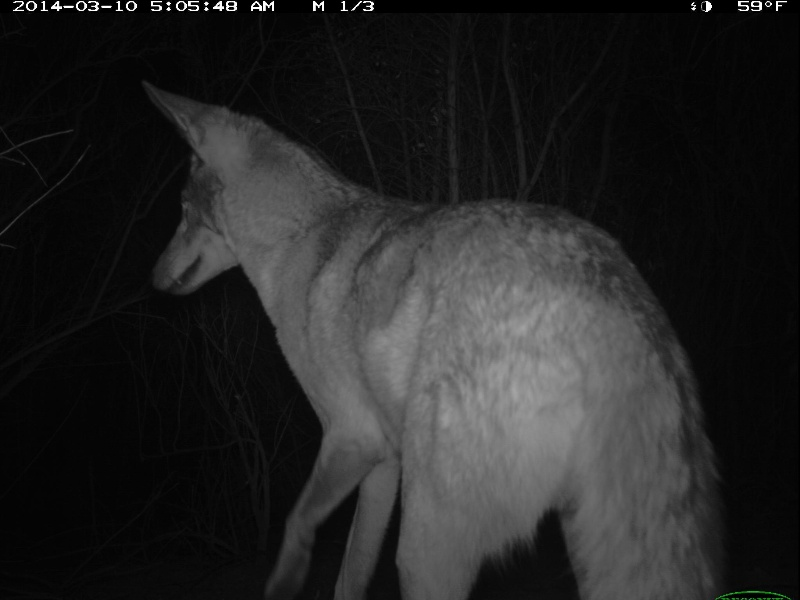coyote: (137, 76, 728, 600)
